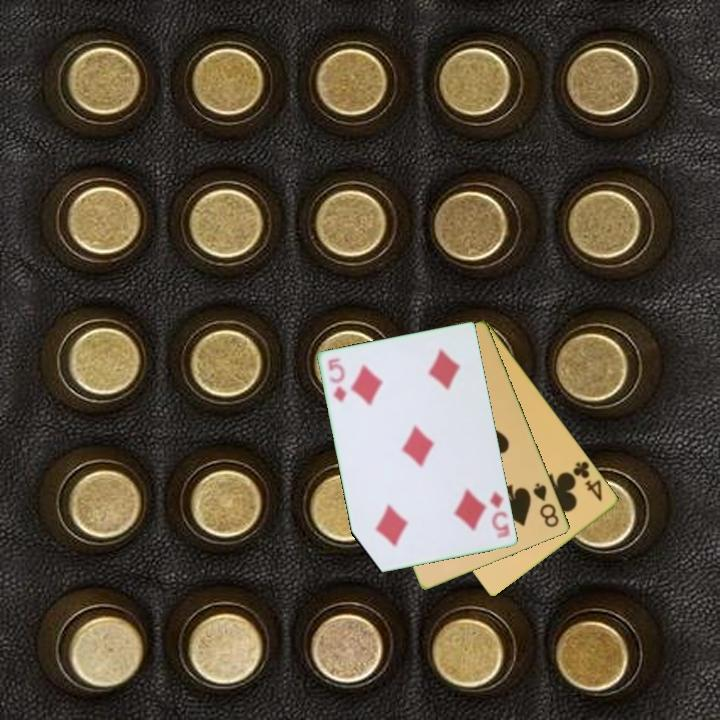4c: (567, 457, 606, 504)
5d: (487, 487, 513, 542), (324, 355, 351, 405)
8s: (530, 479, 562, 531)
